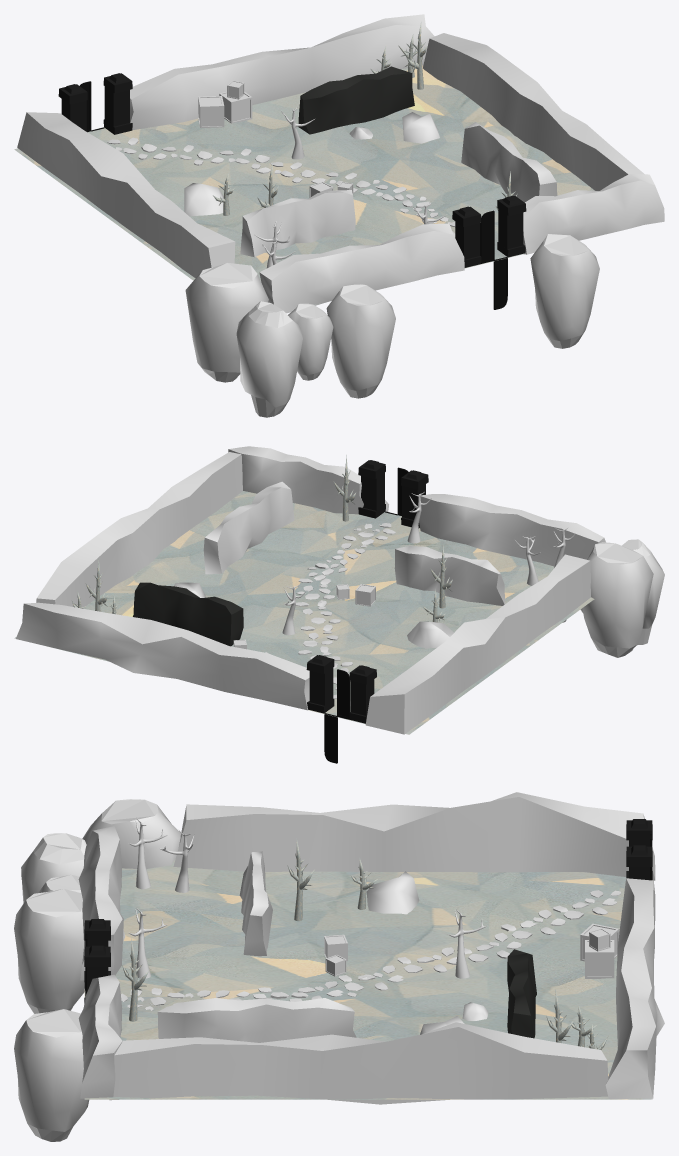
Rendered from level 1 (1).FBX.
The picture shows the model from 3 angles, top to bottom: view 1: azimuth 30°, elevation 25°; view 2: azimuth 150°, elevation 25°; view 3: azimuth 270°, elevation 25°; orthographic projection. The views are drawn at different scales.
Visible parts, largest first — view 1: Plane045, Box002, Box001, Box005, Box022, Box004, Sphere001, Sphere012, Sphere008, Sphere003, Box027, Box026 (+10 smaller); view 2: Plane045, Box002, Box001, Box005, Box022, Sphere001, Box004, Box026, Box027, Box028, Box091, Box092 (+4 smaller); view 3: Plane045, Box005, Box001, Box002, Sphere012, Sphere008, Box028, Box004, Box022, Sphere001, Sphere003, Box026 (+13 smaller).
Part boxes in pixels (box(x1,y1,x2,y2)): Plane045: box(14, 65, 594, 304); Box002: box(130, 14, 434, 130); Box001: box(17, 112, 235, 278); Box005: box(423, 33, 644, 190); Box022: box(259, 223, 464, 313); Box004: box(523, 174, 664, 254); Sphere001: box(185, 262, 268, 382); Sphere012: box(530, 234, 599, 348); Sphere008: box(326, 284, 395, 398); Sphere003: box(236, 301, 302, 417); Box027: box(298, 66, 414, 134); Box026: box(240, 190, 355, 257); Plane045: box(14, 491, 594, 734); Box002: box(16, 602, 309, 710); Box001: box(365, 554, 590, 734); Box005: box(36, 452, 242, 608); Box022: box(419, 494, 605, 566); Sphere001: box(582, 542, 653, 657); Box004: box(228, 446, 363, 514); Box026: box(394, 546, 505, 605); Box027: box(133, 582, 243, 646); Box028: box(203, 481, 294, 574); Box091: box(306, 655, 376, 723); Box092: box(358, 460, 428, 528); Plane045: box(84, 859, 652, 1099); Box005: box(109, 1022, 608, 1104); Box001: box(173, 792, 655, 880); Box002: box(605, 878, 664, 1098); Sphere012: box(14, 1009, 89, 1141); Sphere008: box(14, 889, 84, 1013); Box028: box(157, 998, 356, 1042); Box004: box(78, 974, 122, 1098); Box022: box(78, 826, 125, 980); Sphere001: box(82, 799, 180, 868); Sphere003: box(21, 833, 86, 903); Box026: box(239, 851, 272, 956).
Size of the model in its own units: 154 by 157 by 49.83.
Materials: 4 (1 with a texture image).
